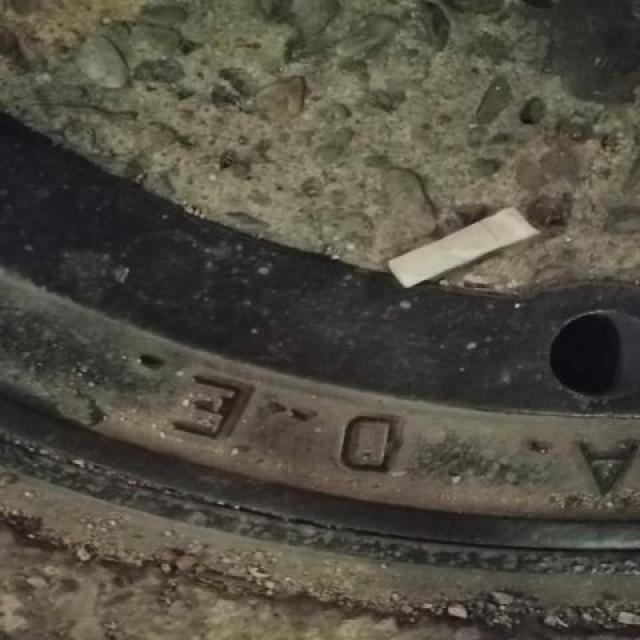non-organic waste: (387, 194, 546, 298)
